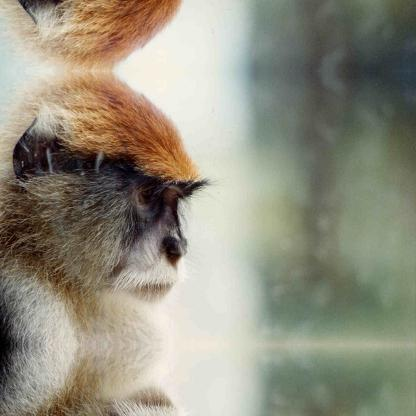Monkey: (0, 70, 219, 345), (0, 0, 219, 71), (0, 345, 219, 415)
